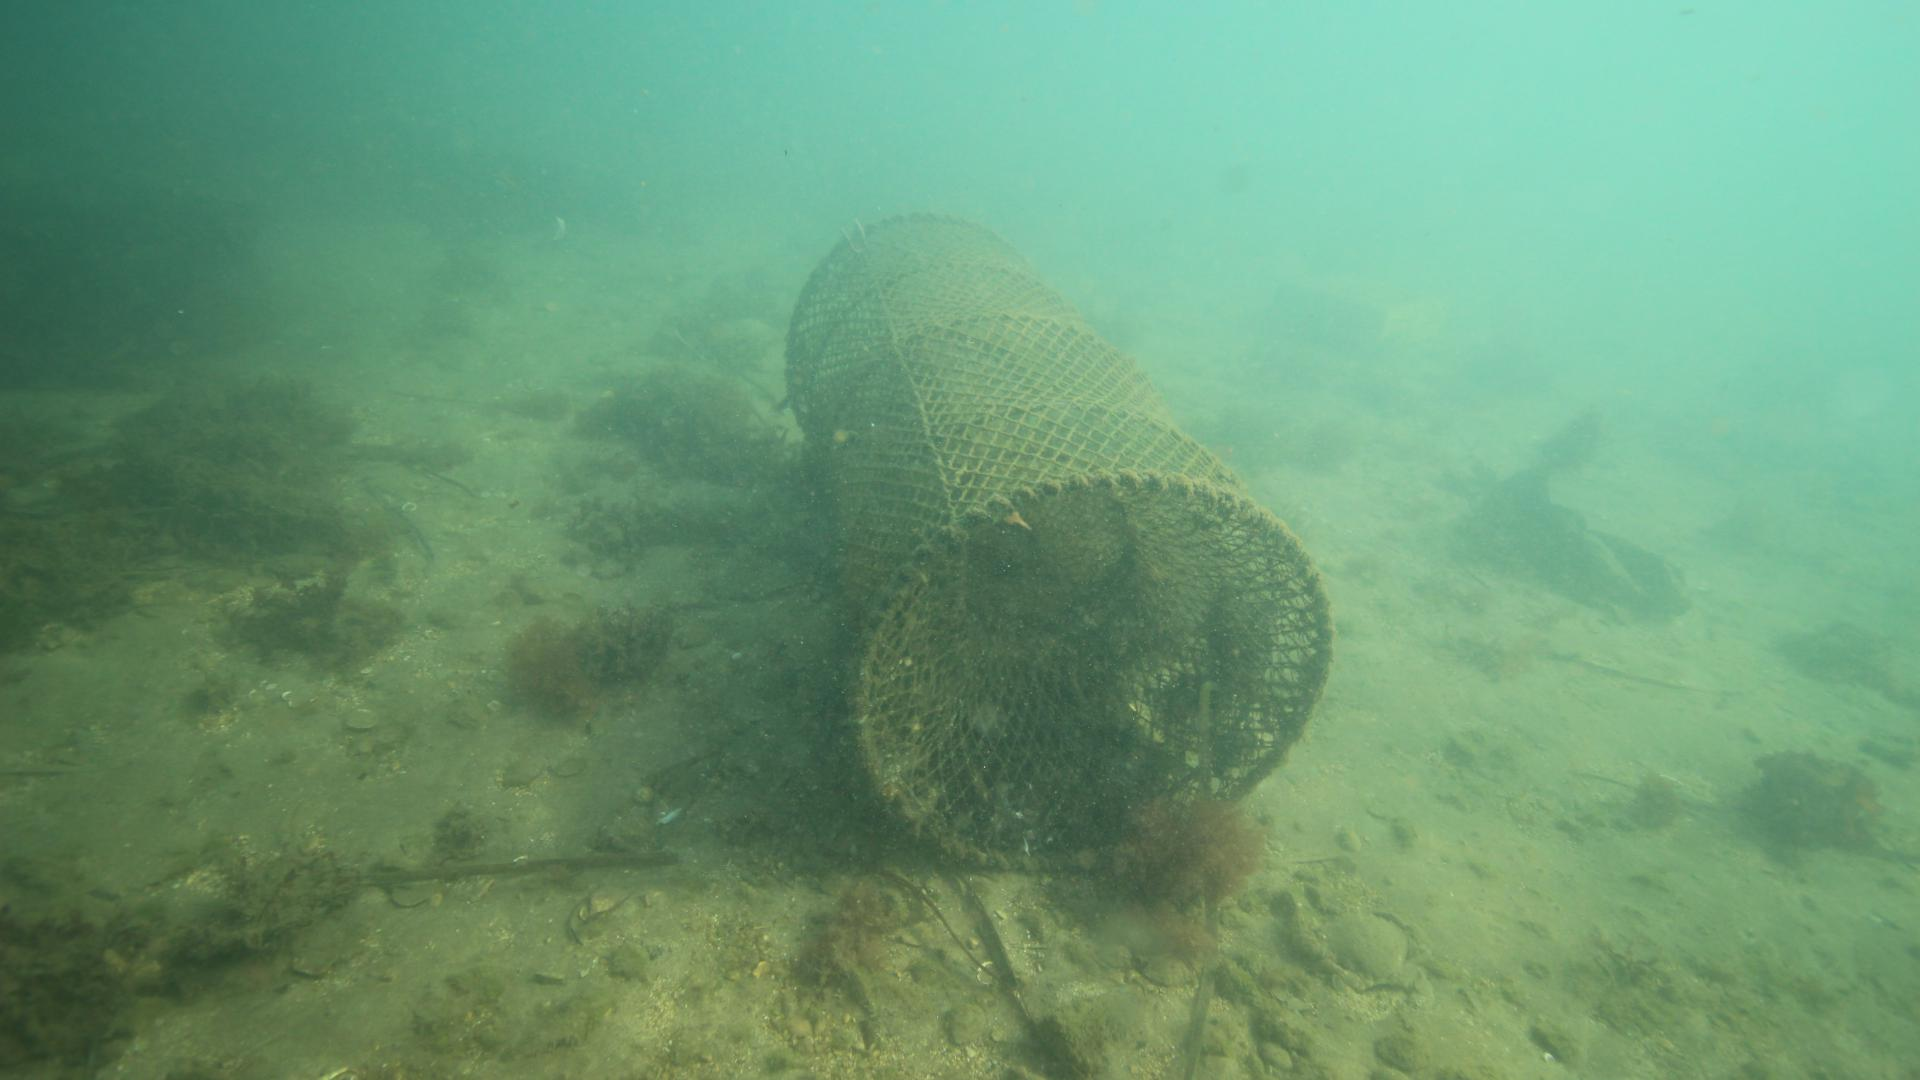spring fish trap: (785, 211, 1335, 876)
